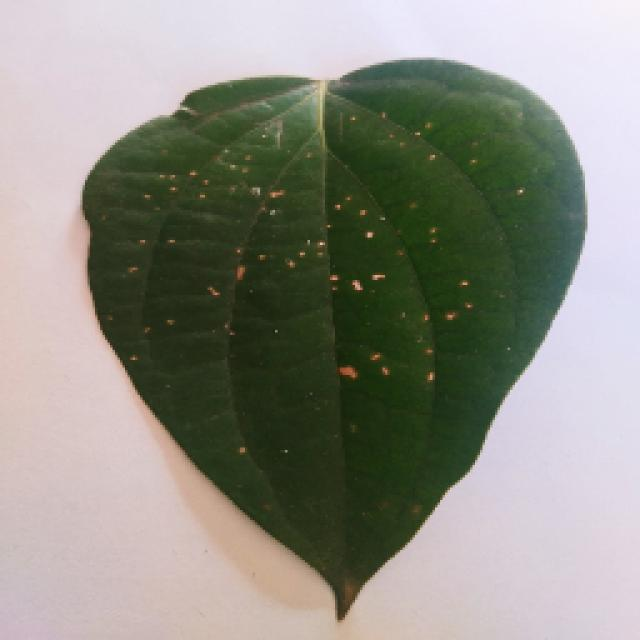pollu-disease: (58, 72, 600, 628)
